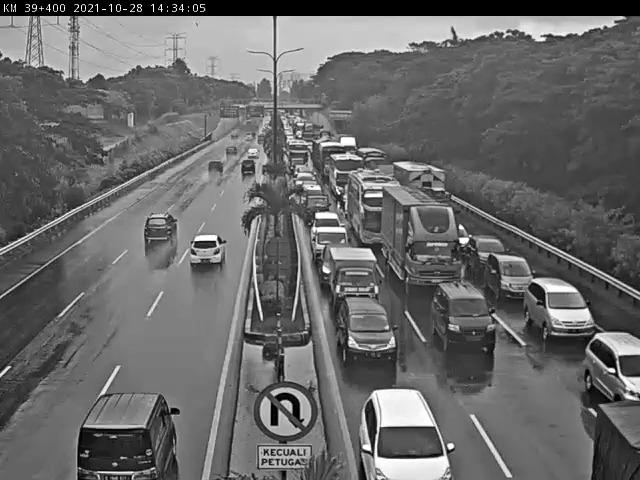big bus: (348, 171, 401, 247), (322, 151, 362, 193), (286, 139, 308, 169)
big truck: (380, 185, 459, 295), (392, 159, 456, 213), (318, 142, 347, 178), (356, 148, 385, 169)
car: (77, 394, 179, 480), (362, 387, 455, 480), (329, 293, 397, 365), (428, 279, 495, 351), (520, 273, 591, 339), (585, 334, 640, 401), (322, 246, 384, 304), (488, 254, 533, 301), (309, 222, 350, 264), (466, 235, 508, 270), (188, 234, 227, 269), (143, 211, 180, 245), (298, 194, 330, 224), (447, 220, 470, 251), (296, 178, 320, 199), (312, 208, 340, 226), (238, 160, 255, 180), (205, 160, 222, 177), (294, 167, 312, 182), (223, 144, 240, 159), (244, 148, 261, 163)
